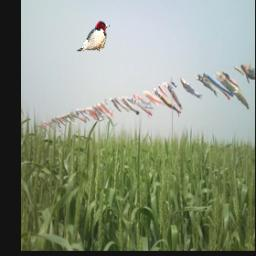Woodpecker: (75, 20, 111, 51)
